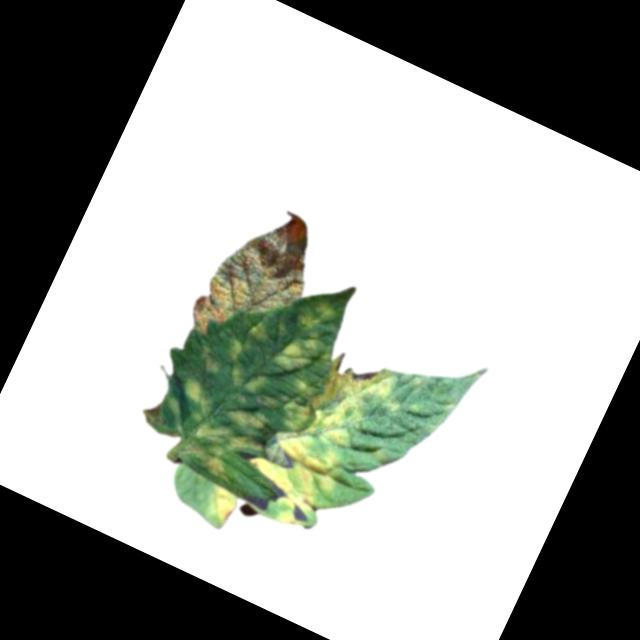Leaf_Mold: (128, 233, 371, 510), (231, 332, 413, 548), (185, 191, 332, 362), (204, 482, 242, 526)
